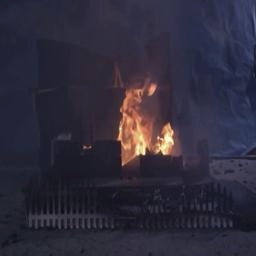fire: (105, 75, 187, 174)
